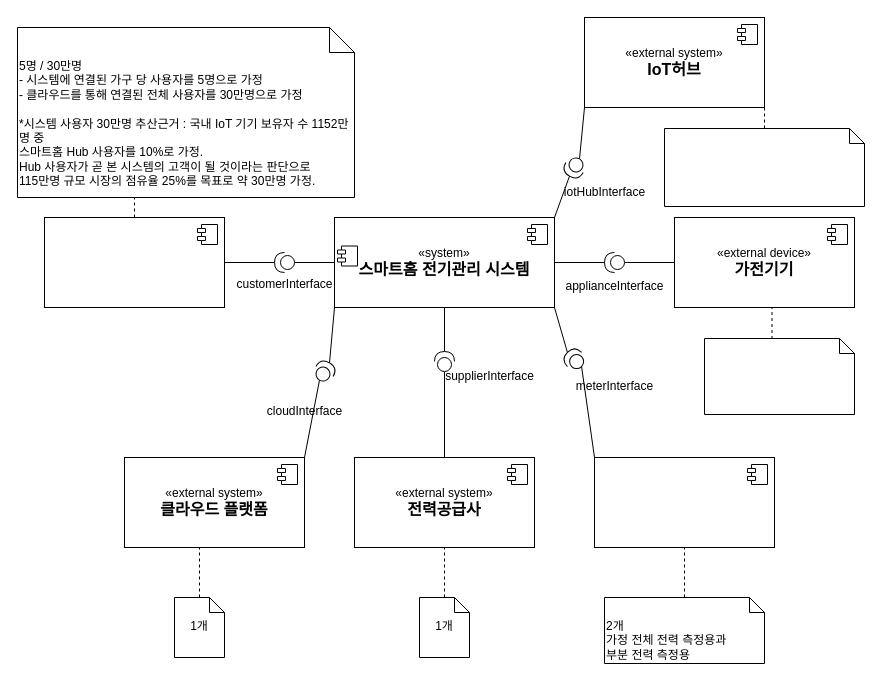
Some shapes in this 882 by 681 pixel diagram are drawn without their labels. The shapes that lost their labels are listed below. From the top down, each one's centre as x and y in pixels, then its label:
At pixel 764 167: "3개 통신 안전성을 위해 가정 내 3포인트에 위치한다고 가정한다.".
At pixel 134 262: "«user» 사용자".
At pixel 779 376: "100개 스펙에 따라 최대 100개 동시 연결을 지원한다".
At pixel 684 502: "«external device» 스마트미터".
